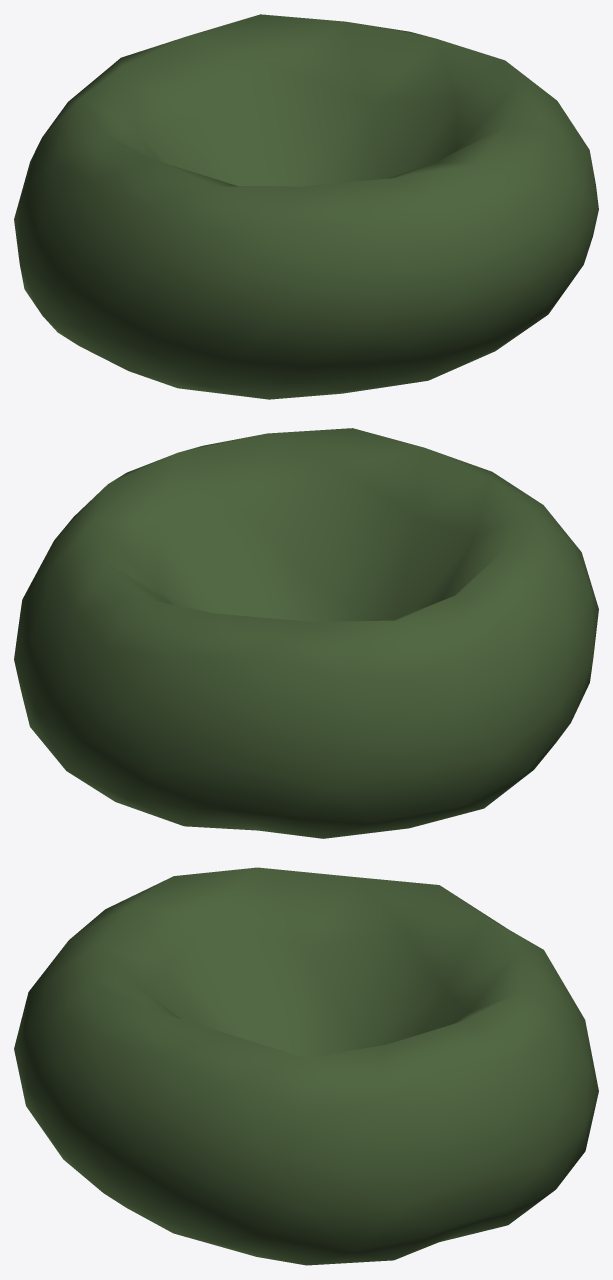
The model's file is p_mesh_trashbot_vollybomb_trashsplatter_green.fbx.
3 views of the same model, one above another, from view 1: azimuth 30°, elevation 25°; view 2: azimuth 150°, elevation 25°; view 3: azimuth 270°, elevation 25° (orthographic).
Parts seen in each view (by area): view 1: Icosphere; view 2: Icosphere; view 3: Icosphere.
Boxes of the visible parts, <box> form: Icosphere: <box>14,14,598,399</box>; Icosphere: <box>14,428,598,838</box>; Icosphere: <box>14,867,598,1265</box>.
Bounding box in the file's own units: 5.38 × 2.42 × 5.39.
